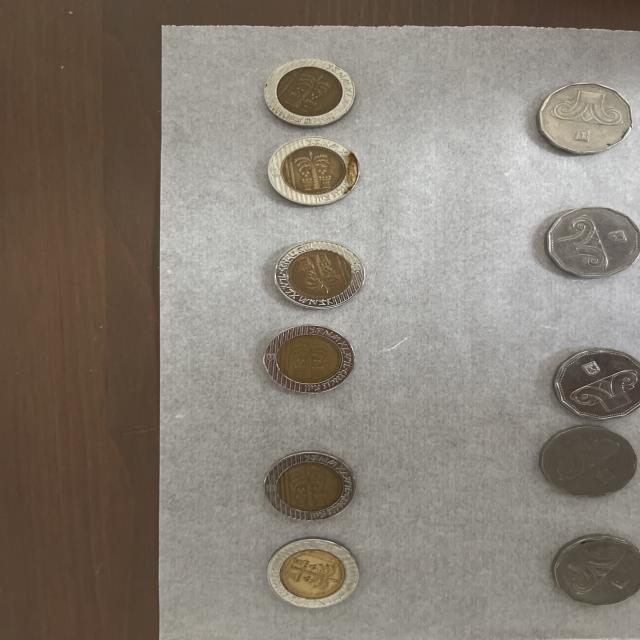10-shekel: (272, 241, 368, 312), (268, 538, 364, 609), (265, 137, 362, 207), (265, 452, 357, 523), (264, 322, 356, 392), (264, 58, 354, 128)
5-shekel: (540, 82, 632, 160), (542, 426, 636, 498), (542, 206, 638, 276), (554, 531, 638, 607), (560, 346, 640, 424)
